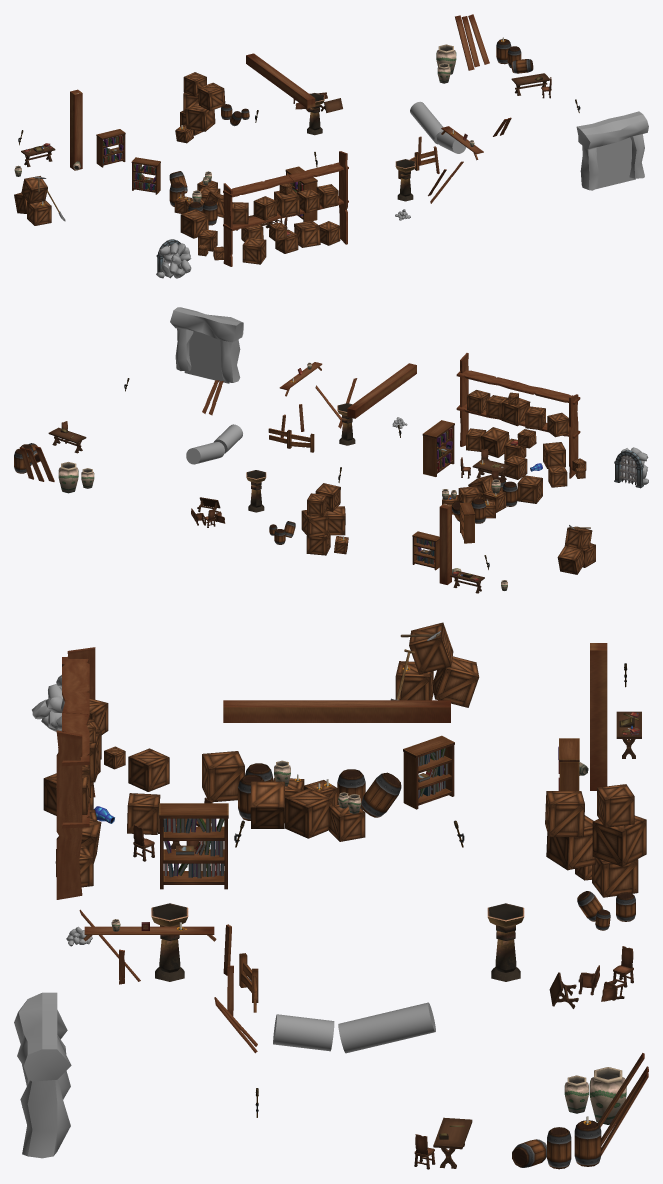
The model's file is FirstInstance_Level01_Props.FBX.
The picture shows the model from 3 angles, top to bottom: view 1: azimuth 30°, elevation 25°; view 2: azimuth 150°, elevation 25°; view 3: azimuth 270°, elevation 25°; orthographic projection. The views are drawn at different scales.
Visible parts, largest first — view 1: Box, Wooden_Plate, Wooden_Broken_Plate, Ortoedric_Frame_Door, Book_Shelf, Wooden_Barrel, Ortoedric_Half_Door, Brazier, Broken_Column, StonePile, Vessel, Wooden_Table_Desk (+1 smaller); view 2: Box, Wooden_Plate, Wooden_Broken_Plate, Book_Shelf, Ortoedric_Frame_Door, Wooden_Barrel, Ortoedric_Half_Door, Vessel, Brazier, Wooden_Table_Desk, Broken_Column, Wooden_Chair (+2 smaller); view 3: Box, Wooden_Plate, Book_Shelf, Wooden_Broken_Plate, Wooden_Barrel, Ortoedric_Frame_Door, Broken_Column, Brazier, Vessel, Wooden_Chair, Wooden_Table_Desk, StonePile (+1 smaller).
Boxes of the visible parts, left/top/right/bottom form: Box: left=14, top=72, right=340, bottom=264; Wooden_Plate: left=70, top=14, right=489, bottom=173; Wooden_Broken_Plate: left=223, top=117, right=511, bottom=266; Ortoedric_Frame_Door: left=576, top=111, right=648, bottom=190; Book_Shelf: left=96, top=129, right=317, bottom=221; Wooden_Barrel: left=169, top=39, right=533, bottom=225; Ortoedric_Half_Door: left=596, top=137, right=635, bottom=188; Brazier: left=307, top=93, right=415, bottom=201; Broken_Column: left=410, top=101, right=466, bottom=153; StonePile: left=157, top=209, right=410, bottom=278; Vessel: left=14, top=44, right=474, bottom=202; Wooden_Table_Desk: left=248, top=73, right=550, bottom=228; Box: left=301, top=390, right=595, bottom=574; Wooden_Plate: left=19, top=362, right=451, bottom=584; Wooden_Broken_Plate: left=202, top=353, right=580, bottom=478; Book_Shelf: left=412, top=420, right=475, bottom=570; Ortoedric_Frame_Door: left=170, top=307, right=243, bottom=382; Wooden_Barrel: left=14, top=443, right=517, bottom=544; Ortoedric_Half_Door: left=184, top=331, right=229, bottom=383; Vessel: left=58, top=362, right=507, bottom=590; Brazier: left=246, top=403, right=355, bottom=512; Wooden_Table_Desk: left=48, top=427, right=509, bottom=512; Broken_Column: left=186, top=424, right=242, bottom=464; Wooden_Chair: left=61, top=421, right=498, bottom=527; Box: left=43, top=622, right=646, bottom=897; Wooden_Plate: left=83, top=643, right=648, bottom=1155; Book_Shelf: left=159, top=735, right=579, bottom=889; Wooden_Broken_Plate: left=56, top=647, right=257, bottom=1053; Wooden_Barrel: left=238, top=763, right=635, bottom=1169; Ortoedric_Frame_Door: left=14, top=992, right=71, bottom=1158; Broken_Column: left=273, top=1002, right=435, bottom=1053; Brazier: left=151, top=903, right=524, bottom=981; Vessel: left=111, top=760, right=626, bottom=1124; Wooden_Chair: left=133, top=797, right=633, bottom=1169; Wooden_Table_Desk: left=158, top=807, right=578, bottom=1168; StonePile: left=32, top=675, right=92, bottom=946.
Bounding box in the file's own units: 37.16 × 7.38 × 20.69.
Materials: 17 (13 with a texture image).
